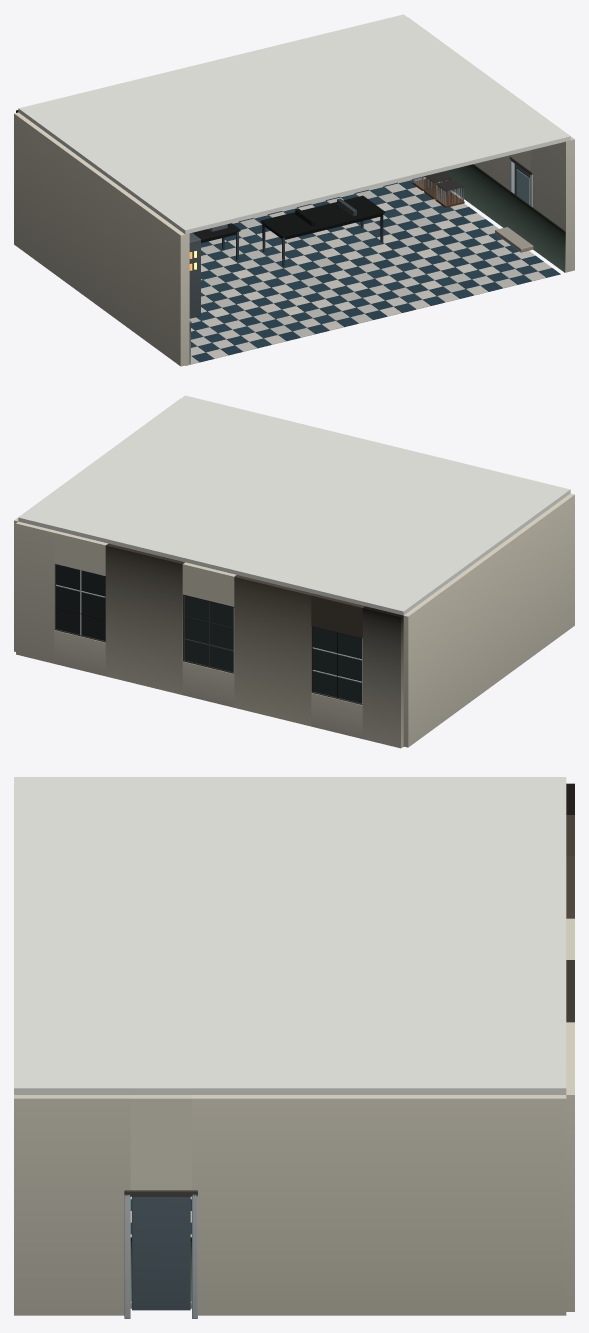
Rendered from navy.glb.
The picture shows the model from 3 angles, top to bottom: view 1: azimuth 30°, elevation 25°; view 2: azimuth 150°, elevation 25°; view 3: azimuth 270°, elevation 25°; orthographic projection. The views are drawn at different scales.
Visible parts, largest first — view 1: navy.plaster.27, navy.plaster.5, navy.tile.1, navy.tile.0, navy.tile.11, navy.plank.20, navy.brass.26, anim-console, navy.plank.21, navy.plank.25, navy.stone.10; view 2: navy.plaster.5, navy.plaster.27, navy.glass.2, navy.paint.3; view 3: navy.plaster.27, navy.plaster.5, navy.paint.6, navy.paint.9.
Boxes of the visible parts, x1,y1,x2,y2 form: navy.plaster.27: (18, 14, 570, 234); navy.plaster.5: (14, 17, 574, 366); navy.tile.1: (185, 177, 551, 365); navy.tile.0: (191, 176, 560, 362); navy.tile.11: (189, 165, 565, 364); navy.plank.20: (192, 195, 385, 240); navy.brass.26: (413, 171, 463, 205); anim-console: (189, 233, 200, 318); navy.plank.21: (201, 213, 383, 266); navy.plank.25: (412, 178, 464, 207); navy.stone.10: (495, 227, 533, 252); navy.plaster.5: (14, 398, 574, 748); navy.plaster.27: (18, 395, 570, 615); navy.glass.2: (56, 564, 361, 703); navy.paint.3: (54, 563, 362, 704); navy.plaster.27: (14, 777, 566, 1094); navy.plaster.5: (14, 783, 574, 1315); navy.paint.6: (132, 1196, 190, 1310); navy.paint.9: (124, 1190, 197, 1318).
Bounding box in the file's own units: 12.31 × 4.07 × 9.14.
